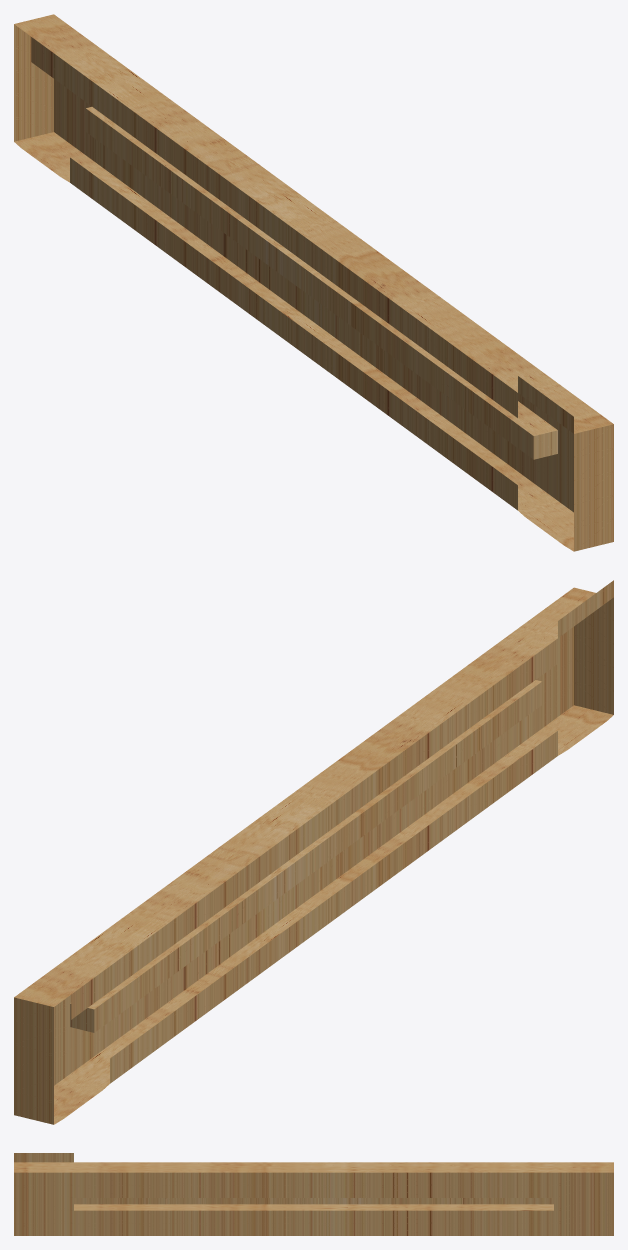
The model's file is plank_links.obj.
3 views of the same model, one above another, from view 1: azimuth 30°, elevation 25°; view 2: azimuth 150°, elevation 25°; view 3: azimuth 270°, elevation 25° (orthographic). The views are drawn at different scales.
Visible parts, largest first — view 1: Frame_plank_linlks; view 2: Frame_plank_linlks; view 3: Frame_plank_linlks.
Boxes of the visible parts, <box> form: Frame_plank_linlks: <box>14,14,613,551</box>; Frame_plank_linlks: <box>14,580,613,1124</box>; Frame_plank_linlks: <box>14,1153,613,1235</box>.
Size of the model in its own units: 0.3346 by 1.05 by 7.87.
Materials: 1 (1 with a texture image).
